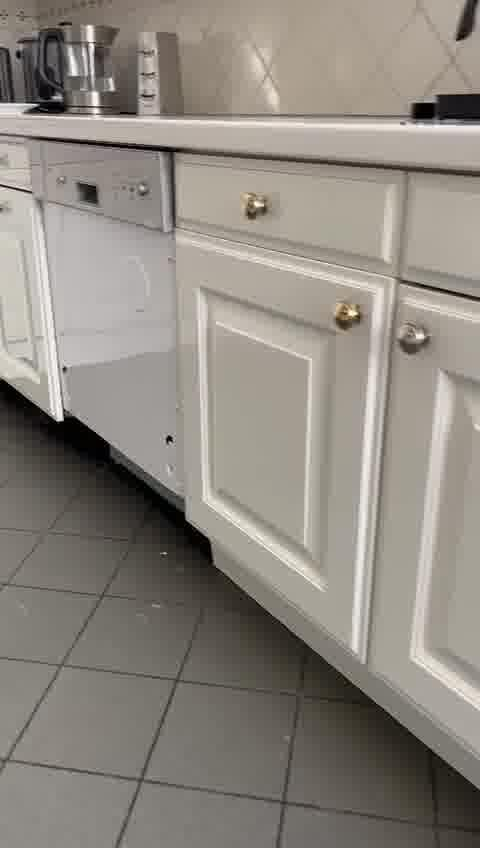cabinet_door: (181, 263, 381, 623), (378, 300, 479, 756), (47, 156, 176, 458), (182, 165, 404, 249), (397, 173, 480, 285), (0, 199, 45, 397), (0, 145, 36, 181)
handle: (394, 316, 433, 367), (330, 296, 364, 341), (70, 176, 107, 210), (239, 190, 272, 227), (0, 199, 9, 219), (0, 149, 8, 167)
